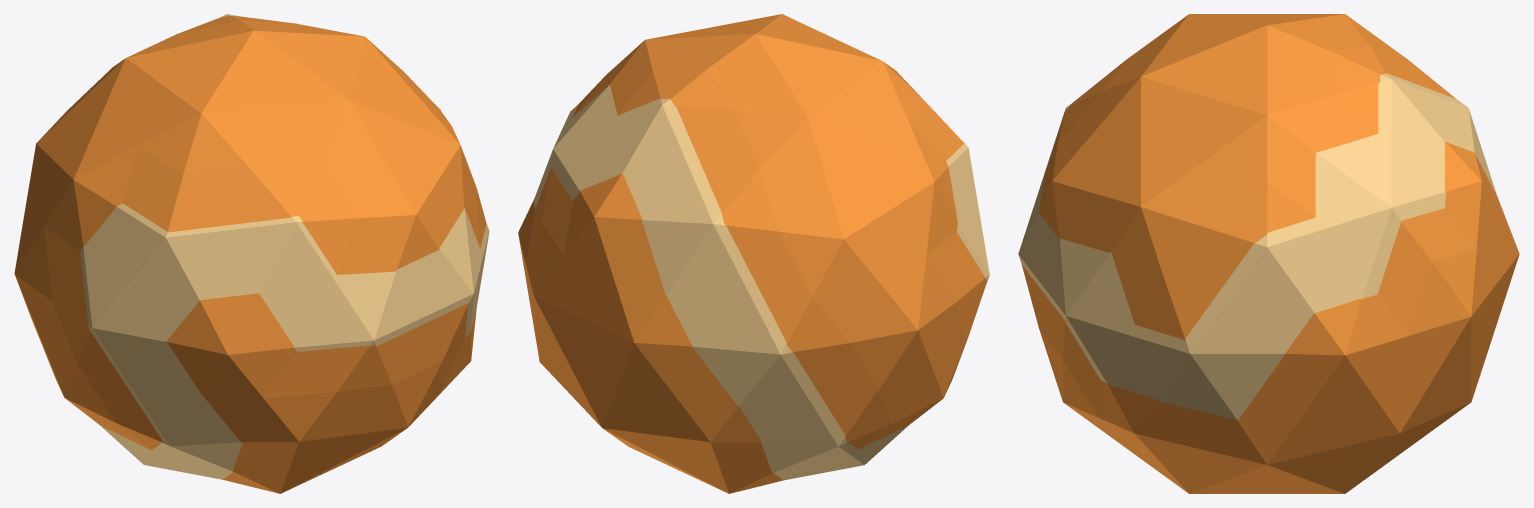
File: Venus.fbx
3 renders of one model, left to right at view 1: azimuth 30°, elevation 25°; view 2: azimuth 150°, elevation 25°; view 3: azimuth 270°, elevation 25°, orthographic. The views are drawn at different scales.
Visible parts, largest first — view 1: Venus; view 2: Venus; view 3: Venus.
Part boxes in pixels (box(x1,y1,x2,y2)): Venus: box(14, 14, 489, 493); Venus: box(518, 14, 989, 493); Venus: box(1018, 14, 1519, 493).
Bounding box in the file's own units: 190 × 200 × 199.
